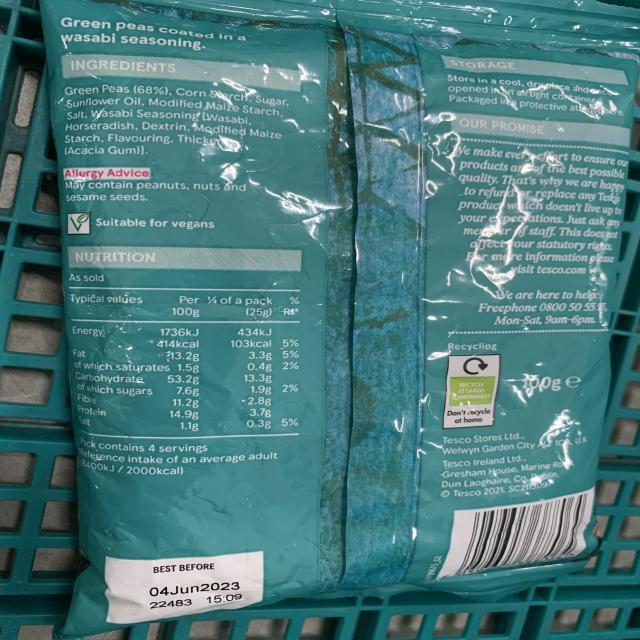object_name: (49, 5, 591, 603)
